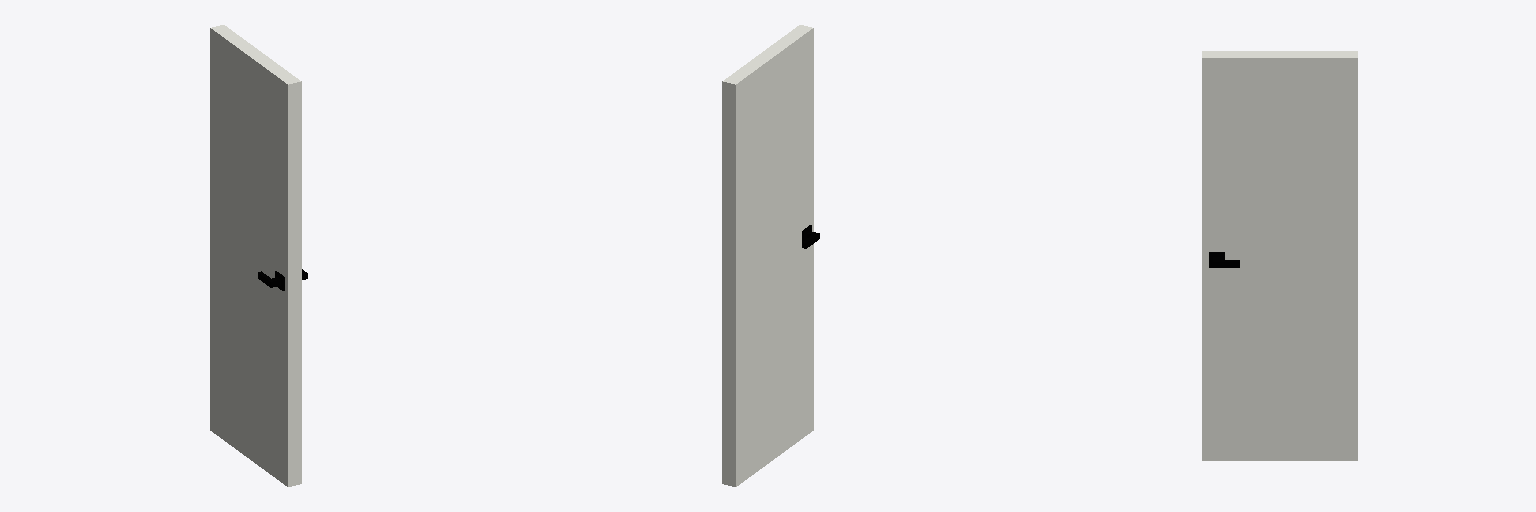
File: door701_lactic.obj
3 renders of one model, left to right at view 1: azimuth 30°, elevation 25°; view 2: azimuth 150°, elevation 25°; view 3: azimuth 270°, elevation 25°, orthographic.
Visible parts, largest first — view 1: Cube; view 2: Cube; view 3: Cube.
Boxes of the visible parts, x1,y1,x2,y2 form: Cube: [210, 25, 307, 486]; Cube: [722, 25, 819, 486]; Cube: [1202, 51, 1357, 460].
Size of the model in its own units: 0.1899 by 2 by 0.6997.